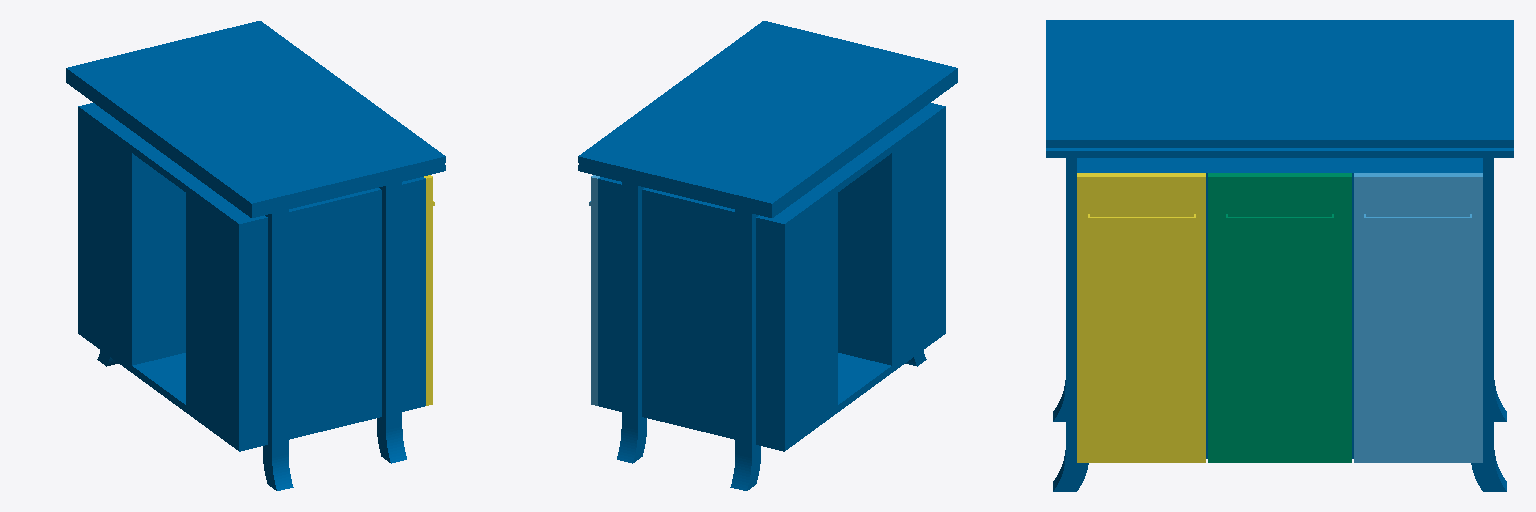
URDF robot description (partnet_4cd743a60cfa17d6b0a3f25f5d8cb0f8):
<robot name="partnet_4cd743a60cfa17d6b0a3f25f5d8cb0f8">
	<link name="base" />
	<link name="link_0">
		<visual name="cabinet_door_surface-24">
			<origin xyz="0.5703330000000006 0.545200972927486 0.38160089058975966" />
			<geometry>
				<mesh filename="textured_objs/original-16.obj" />
			</geometry>
		</visual>
		<visual name="handle-25">
			<origin xyz="0.5703330000000006 0.545200972927486 0.38160089058975966" />
			<geometry>
				<mesh filename="textured_objs/original-18.obj" />
			</geometry>
		</visual>
		<collision>
			<origin xyz="0.5703330000000006 0.545200972927486 0.38160089058975966" />
			<geometry>
				<mesh filename="textured_objs/original-16.obj" />
			</geometry>
		</collision>
		<collision>
			<origin xyz="0.5703330000000006 0.545200972927486 0.38160089058975966" />
			<geometry>
				<mesh filename="textured_objs/original-18.obj" />
			</geometry>
		</collision>
	</link>
	<joint name="joint_0" type="revolute">
		<origin xyz="-0.5703330000000006 -0.545200972927486 -0.38160089058975966" />
		<axis xyz="-1 0 0" />
		<child link="link_0" />
		<parent link="link_3" />
		<limit effort="0.0" lower="-0.0" upper="1.5707963267948966" velocity="0.0" />
	</joint>
	<link name="link_1">
		<visual name="cabinet_door_surface-22">
			<origin xyz="0.5703330000000006 0.545200972927486 0.38160089058975966" />
			<geometry>
				<mesh filename="textured_objs/original-17.obj" />
			</geometry>
		</visual>
		<visual name="handle-23">
			<origin xyz="0.5703330000000006 0.545200972927486 0.38160089058975966" />
			<geometry>
				<mesh filename="textured_objs/original-20.obj" />
			</geometry>
		</visual>
		<collision>
			<origin xyz="0.5703330000000006 0.545200972927486 0.38160089058975966" />
			<geometry>
				<mesh filename="textured_objs/original-17.obj" />
			</geometry>
		</collision>
		<collision>
			<origin xyz="0.5703330000000006 0.545200972927486 0.38160089058975966" />
			<geometry>
				<mesh filename="textured_objs/original-20.obj" />
			</geometry>
		</collision>
	</link>
	<joint name="joint_1" type="revolute">
		<origin xyz="-0.5703330000000006 -0.545200972927486 -0.38160089058975966" />
		<axis xyz="-1 0 0" />
		<child link="link_1" />
		<parent link="link_3" />
		<limit effort="0.0" lower="-0.0" upper="1.5707963267948966" velocity="0.0" />
	</joint>
	<link name="link_2">
		<visual name="cabinet_door_surface-20">
			<origin xyz="0.5703330000000006 0.545200972927486 0.38160089058975966" />
			<geometry>
				<mesh filename="textured_objs/original-15.obj" />
			</geometry>
		</visual>
		<visual name="handle-21">
			<origin xyz="0.5703330000000006 0.545200972927486 0.38160089058975966" />
			<geometry>
				<mesh filename="textured_objs/original-19.obj" />
			</geometry>
		</visual>
		<collision>
			<origin xyz="0.5703330000000006 0.545200972927486 0.38160089058975966" />
			<geometry>
				<mesh filename="textured_objs/original-15.obj" />
			</geometry>
		</collision>
		<collision>
			<origin xyz="0.5703330000000006 0.545200972927486 0.38160089058975966" />
			<geometry>
				<mesh filename="textured_objs/original-19.obj" />
			</geometry>
		</collision>
	</link>
	<joint name="joint_2" type="revolute">
		<origin xyz="-0.5703330000000006 -0.545200972927486 -0.38160089058975966" />
		<axis xyz="-1 0 0" />
		<child link="link_2" />
		<parent link="link_3" />
		<limit effort="0.0" lower="-0.0" upper="1.5707963267948966" velocity="0.0" />
	</joint>
	<link name="link_3">
		<visual name="board-29">
			<origin xyz="0 0 0" />
			<geometry>
				<mesh filename="textured_objs/original-12.obj" />
			</geometry>
		</visual>
		<visual name="board-29">
			<origin xyz="0 0 0" />
			<geometry>
				<mesh filename="textured_objs/original-11.obj" />
			</geometry>
		</visual>
		<visual name="back_panel-7">
			<origin xyz="0 0 0" />
			<geometry>
				<mesh filename="textured_objs/original-13.obj" />
			</geometry>
		</visual>
		<visual name="back_panel-8">
			<origin xyz="0 0 0" />
			<geometry>
				<mesh filename="textured_objs/original-14.obj" />
			</geometry>
		</visual>
		<visual name="vertical_side_panel-9">
			<origin xyz="0 0 0" />
			<geometry>
				<mesh filename="textured_objs/original-3.obj" />
			</geometry>
		</visual>
		<visual name="vertical_side_panel-10">
			<origin xyz="0 0 0" />
			<geometry>
				<mesh filename="textured_objs/original-2.obj" />
			</geometry>
		</visual>
		<visual name="vertical_divider_panel-11">
			<origin xyz="0 0 0" />
			<geometry>
				<mesh filename="textured_objs/original-5.obj" />
			</geometry>
		</visual>
		<visual name="vertical_divider_panel-12">
			<origin xyz="0 0 0" />
			<geometry>
				<mesh filename="textured_objs/original-6.obj" />
			</geometry>
		</visual>
		<visual name="bottom_panel-13">
			<origin xyz="0 0 0" />
			<geometry>
				<mesh filename="textured_objs/original-1.obj" />
			</geometry>
		</visual>
		<visual name="leg-14">
			<origin xyz="0 0 0" />
			<geometry>
				<mesh filename="textured_objs/original-8.obj" />
			</geometry>
		</visual>
		<visual name="leg-15">
			<origin xyz="0 0 0" />
			<geometry>
				<mesh filename="textured_objs/original-7.obj" />
			</geometry>
		</visual>
		<visual name="leg-16">
			<origin xyz="0 0 0" />
			<geometry>
				<mesh filename="textured_objs/original-10.obj" />
			</geometry>
		</visual>
		<visual name="leg-17">
			<origin xyz="0 0 0" />
			<geometry>
				<mesh filename="textured_objs/original-9.obj" />
			</geometry>
		</visual>
		<visual name="other_leaf-19">
			<origin xyz="0 0 0" />
			<geometry>
				<mesh filename="textured_objs/original-4.obj" />
			</geometry>
		</visual>
		<collision>
			<origin xyz="0 0 0" />
			<geometry>
				<mesh filename="textured_objs/original-12.obj" />
			</geometry>
		</collision>
		<collision>
			<origin xyz="0 0 0" />
			<geometry>
				<mesh filename="textured_objs/original-11.obj" />
			</geometry>
		</collision>
		<collision>
			<origin xyz="0 0 0" />
			<geometry>
				<mesh filename="textured_objs/original-13.obj" />
			</geometry>
		</collision>
		<collision>
			<origin xyz="0 0 0" />
			<geometry>
				<mesh filename="textured_objs/original-14.obj" />
			</geometry>
		</collision>
		<collision>
			<origin xyz="0 0 0" />
			<geometry>
				<mesh filename="textured_objs/original-3.obj" />
			</geometry>
		</collision>
		<collision>
			<origin xyz="0 0 0" />
			<geometry>
				<mesh filename="textured_objs/original-2.obj" />
			</geometry>
		</collision>
		<collision>
			<origin xyz="0 0 0" />
			<geometry>
				<mesh filename="textured_objs/original-5.obj" />
			</geometry>
		</collision>
		<collision>
			<origin xyz="0 0 0" />
			<geometry>
				<mesh filename="textured_objs/original-6.obj" />
			</geometry>
		</collision>
		<collision>
			<origin xyz="0 0 0" />
			<geometry>
				<mesh filename="textured_objs/original-1.obj" />
			</geometry>
		</collision>
		<collision>
			<origin xyz="0 0 0" />
			<geometry>
				<mesh filename="textured_objs/original-8.obj" />
			</geometry>
		</collision>
		<collision>
			<origin xyz="0 0 0" />
			<geometry>
				<mesh filename="textured_objs/original-7.obj" />
			</geometry>
		</collision>
		<collision>
			<origin xyz="0 0 0" />
			<geometry>
				<mesh filename="textured_objs/original-10.obj" />
			</geometry>
		</collision>
		<collision>
			<origin xyz="0 0 0" />
			<geometry>
				<mesh filename="textured_objs/original-9.obj" />
			</geometry>
		</collision>
		<collision>
			<origin xyz="0 0 0" />
			<geometry>
				<mesh filename="textured_objs/original-4.obj" />
			</geometry>
		</collision>
	</link>
	<joint name="joint_3" type="fixed">
		<origin rpy="1.570796326794897 0 -1.570796326794897" xyz="0 0 0" />
		<child link="link_3" />
		<parent link="base" />
	</joint>
</robot>

--- Facts derived from the render (not from the file) ---
3 views of the same robot in one strip: view 1: azimuth 30°, elevation 25°; view 2: azimuth 150°, elevation 25°; view 3: azimuth 270°, elevation 25° (orthographic).
Model partnet_4cd743a60cfa17d6b0a3f25f5d8cb0f8 with 5 links and 4 joints (3 revolute, 1 fixed), rooted at base, posed every joint at zero.
Visible links, largest first — view 1: link_3, link_2; view 2: link_3, link_0; view 3: link_3, link_1, link_0, link_2.
Link boxes in pixels (box(x1,y1,x2,y2)): link_3: box(66, 21, 445, 490); link_2: box(424, 175, 434, 405); link_3: box(578, 21, 957, 490); link_0: box(589, 175, 599, 405); link_3: box(1046, 20, 1513, 491); link_1: box(1208, 173, 1351, 462); link_0: box(1354, 173, 1482, 462); link_2: box(1077, 173, 1205, 462).
Bounding box of the posed robot: 0.844 × 1.36 × 1.2 m (x, y, z).
20 mesh visuals loaded from 20 distinct referenced files (20 OBJ).
